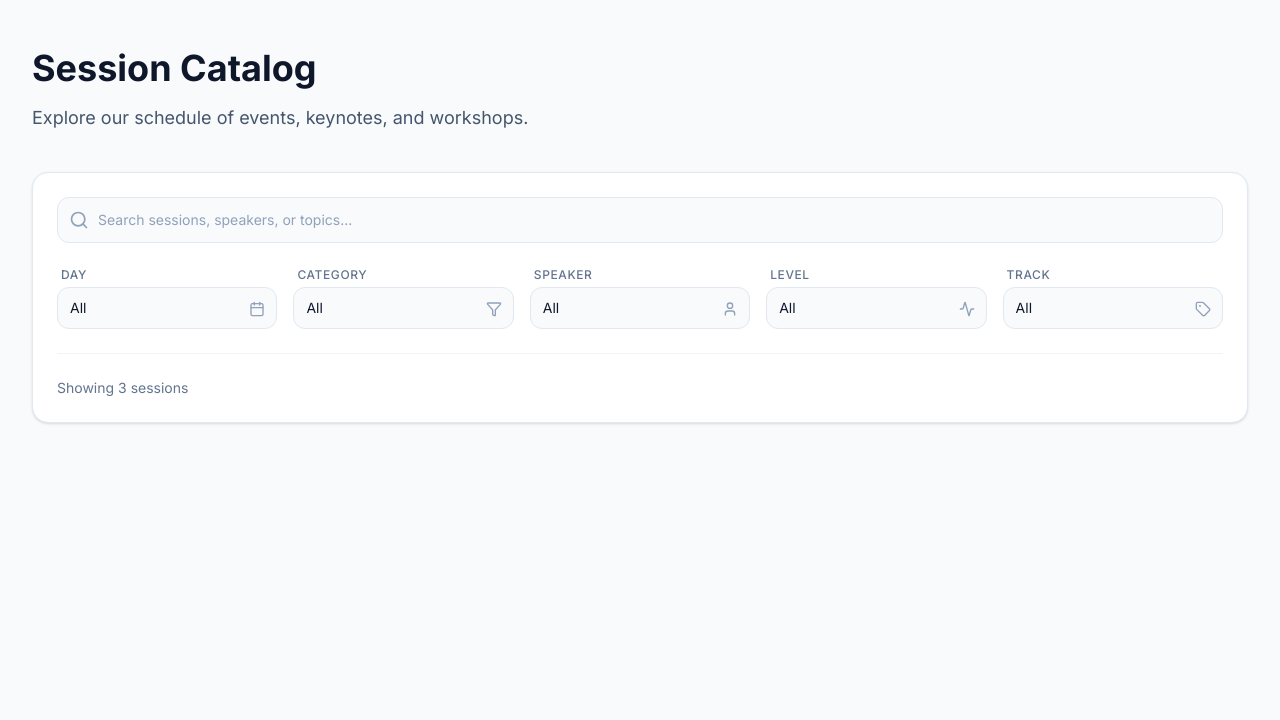
Test: Catalog Page › filters by search query
The image size is (1280, 720).
In the field with placeholder "Search sessions, speakers, or topics...": (640, 220) [57, 197, 1223, 243], type "React"
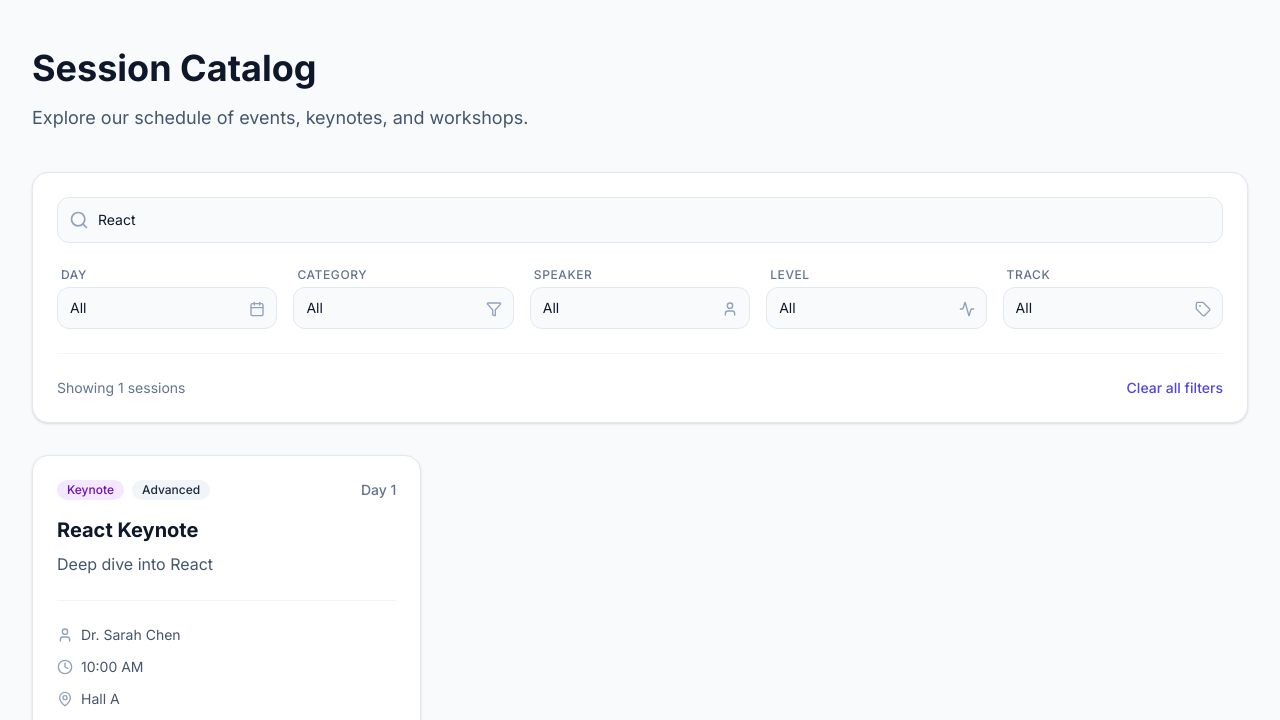
Now the heading "React Keynote" is shown, box [57, 518, 198, 542]
